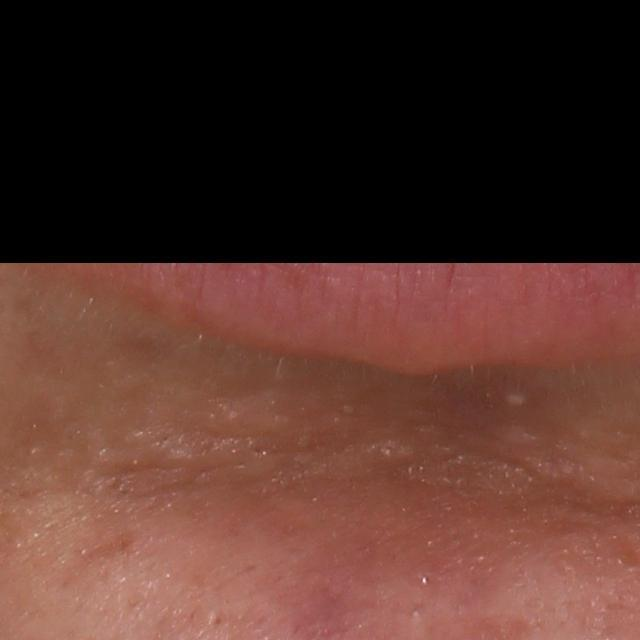comedo: (208, 611, 227, 630)
hypertrophic_scar: (189, 390, 326, 440), (370, 436, 423, 466)
